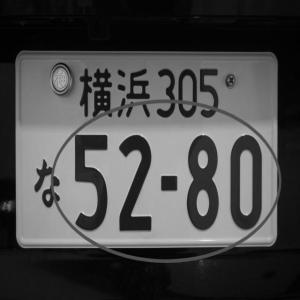Plate: (16, 51, 278, 248)
